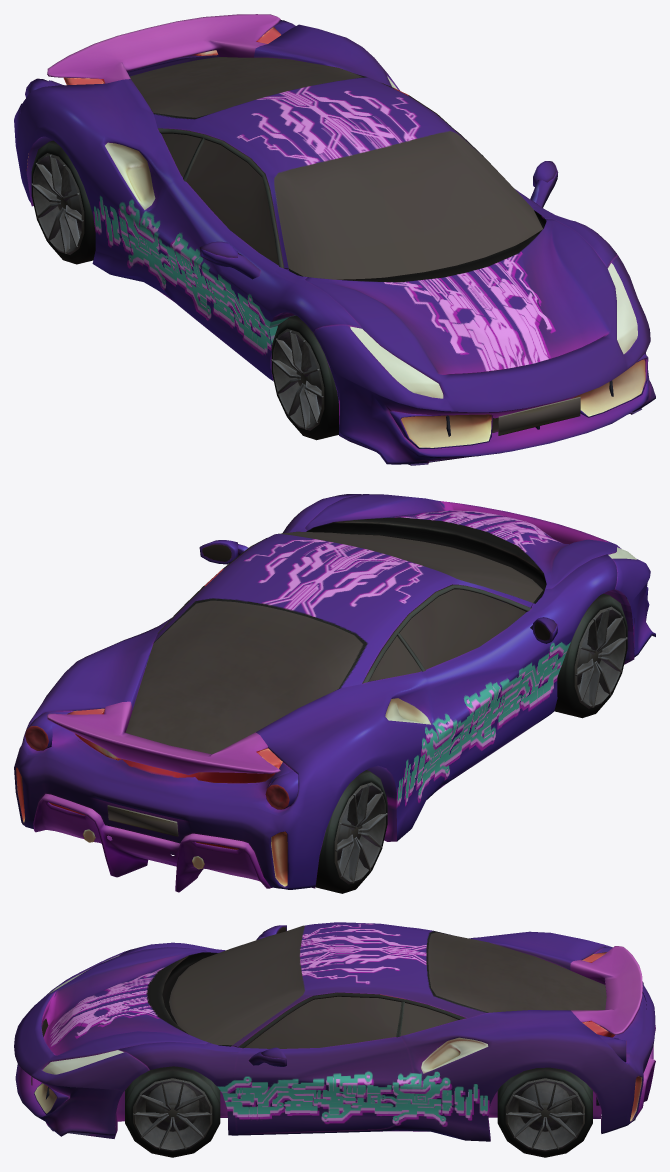
Rendered from Ferrari_488_parts.fbx.
3 renders of one model, top to bottom at view 1: azimuth 30°, elevation 25°; view 2: azimuth 150°, elevation 25°; view 3: azimuth 270°, elevation 25°, orthographic. The views are drawn at different scales.
Parts seen in each view (by area): view 1: polySurface10, polySurface2, Ferrari_wheel_F.R, Ferrari_wheel_B.R; view 2: polySurface10, polySurface2, Ferrari_wheel_F.R, Ferrari_wheel_B.R; view 3: polySurface10, polySurface2, Ferrari_wheel_F.L, Ferrari_wheel_B.L.
Boxes of the visible parts, x1,y1,x2,y2 form: polySurface10: (20,14,650,465); polySurface2: (14,55,655,464); Ferrari_wheel_F.R: (271,315,338,440); Ferrari_wheel_B.R: (31,140,95,264); polySurface10: (21,494,650,888); polySurface2: (14,582,655,892); Ferrari_wheel_F.R: (554,593,627,718); Ferrari_wheel_B.R: (315,770,387,893); polySurface10: (14,922,646,1141); polySurface2: (15,982,655,1136); Ferrari_wheel_F.L: (125,1066,220,1157); Ferrari_wheel_B.L: (497,1067,592,1157).
Bounding box in the file's own units: 226 × 120 × 458.
